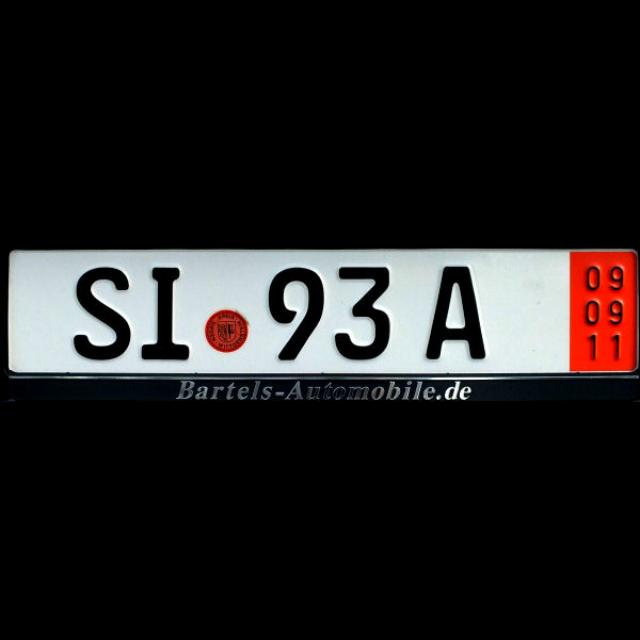d_license_plate: (9, 249, 637, 371)
